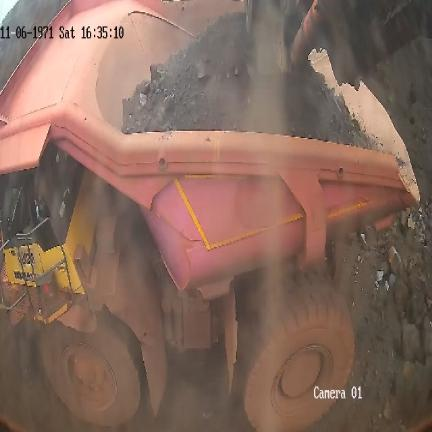pile: (124, 10, 374, 146), (344, 202, 432, 432)
